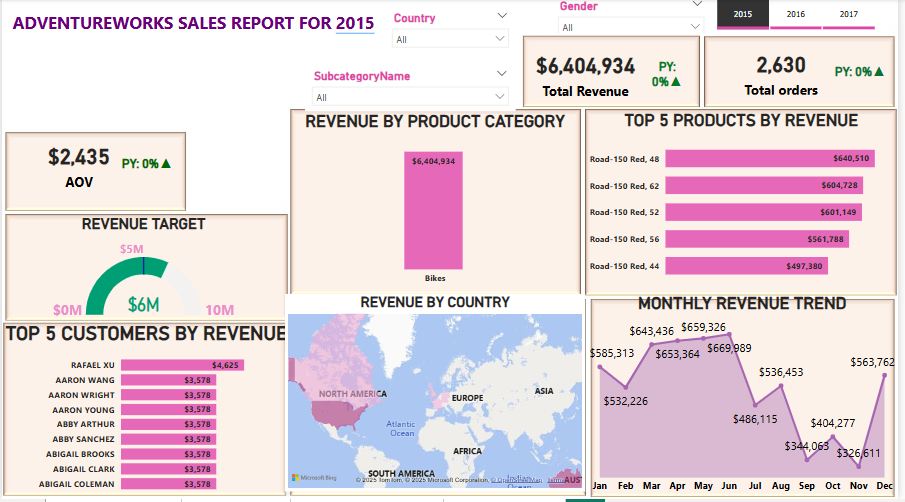

This screenshot's page, from the dashboard's own definition file:
{"tool":"powerbi","page":{"name":"Sales Report","canvas":[1280,720],"ordinal":1},"visuals":[{"type":"card","fields":{"Values":["DAX Measures.Total Revenue"]},"box":[734.4,56.2,198.7,110.9],"z":0},{"type":"card","fields":{"Values":["DAX Measures.Total orders"]},"box":[999.4,72,226.1,76.3],"z":1000},{"type":"card","fields":{"Values":["DAX Measures.AOV"]},"box":[0,178.6,220.3,125.3],"z":2000},{"type":"card","fields":{"Values":["DAX Measures.orders_increase %"]},"box":[1170.7,72,109.4,76.3],"z":3000},{"type":"card","fields":{"Values":["DAX Measures.Revenue growth %"]},"box":[911.5,77.8,77.8,70.6],"z":4000},{"type":"card","fields":{"Values":["DAX Measures.AOV growth %"]},"box":[161.3,205.9,92.2,72],"z":5000},{"type":"textbox","box":[10.1,17.3,570.2,60.5],"z":6000},{"type":"columnChart","title":" REVENUE BY PRODUCT CATEGORY ","fields":{"Y":["DAX Measures.Total Revenue"],"Category":["AdventureWorks_Product_Categories.CategoryName"]},"box":[416.2,167,406.1,254.9],"z":7000},{"type":"barChart","title":"TOP 5 PRODUCTS BY REVENUE","fields":{"Y":["DAX Measures.Total Revenue"],"Category":["AdventureWorks_Products.ProductName"]},"box":[833.2,166.3,446.8,255.3],"z":9000},{"type":"barChart","title":"TOP 5 CUSTOMERS BY REVENUE","fields":{"Category":["AdventureWorks_Customers.Fullname"],"Y":["DAX Measures.Total Revenue"]},"box":[0,466.6,416.2,253.4],"z":10000},{"type":"areaChart","title":"MONTHLY REVENUE TREND","fields":{"Y":["DAX Measures.Total Revenue"],"Category":["Calendar.Month"]},"box":[833.8,427.7,446.4,292.3],"z":11000},{"type":"slicer","fields":{"Values":["Calendar.Year"]},"box":[995,0,275,56.2],"z":12000},{"type":"gauge","title":"REVENUE TARGET","fields":{"MaxValue":["DAX Measures.Revenue Maximum"],"TargetValue":["DAX Measures.Revenue Target"],"Y":["DAX Measures.Total Revenue"]},"box":[0,313.9,404.6,152.6],"z":13000},{"type":"filledMap","title":"REVENUE BY COUNTRY","fields":{"Category":["AdventureWorks_Territories.Country"]},"box":[404.6,427.7,429.1,282.2],"z":14000},{"type":"slicer","fields":{"Values":["AdventureWorks_Customers.Gender"]},"box":[784.8,0,229,54.7],"z":15000},{"type":"slicer","fields":{"Values":["AdventureWorks_Product_Subcategory.SubcategoryName"]},"box":[433.4,99.4,301,66.2],"z":16000},{"type":"slicer","fields":{"Values":["AdventureWorks_Territories.Country"]},"box":[547.2,17.3,187.2,60.5],"z":17000}]}

Visuals, with their boxes in screenshot pixels (x1, y1, x2, y2), scaled from the page's 1280x720 canvas onto the 905x502 screenshot:
card - DAX Measures.Total Revenue: 519 39 660 117
card - DAX Measures.Total orders: 707 50 866 103
card - DAX Measures.AOV: 0 125 156 212
card - DAX Measures.orders_increase %: 828 50 904 103
card - DAX Measures.Revenue growth %: 644 54 699 103
card - DAX Measures.AOV growth %: 114 144 179 194
textbox: 7 12 410 54
" REVENUE BY PRODUCT CATEGORY " columnChart: 294 116 581 294
"TOP 5 PRODUCTS BY REVENUE" barChart: 589 116 904 294
"TOP 5 CUSTOMERS BY REVENUE" barChart: 0 325 294 501
"MONTHLY REVENUE TREND" areaChart: 590 298 904 501
slicer - Calendar.Year: 703 0 898 39
"REVENUE TARGET" gauge: 0 219 286 325
"REVENUE BY COUNTRY" filledMap: 286 298 589 495
slicer - AdventureWorks_Customers.Gender: 555 0 717 38
slicer - AdventureWorks_Product_Subcategory.SubcategoryName: 306 69 519 115
slicer - AdventureWorks_Territories.Country: 387 12 519 54
